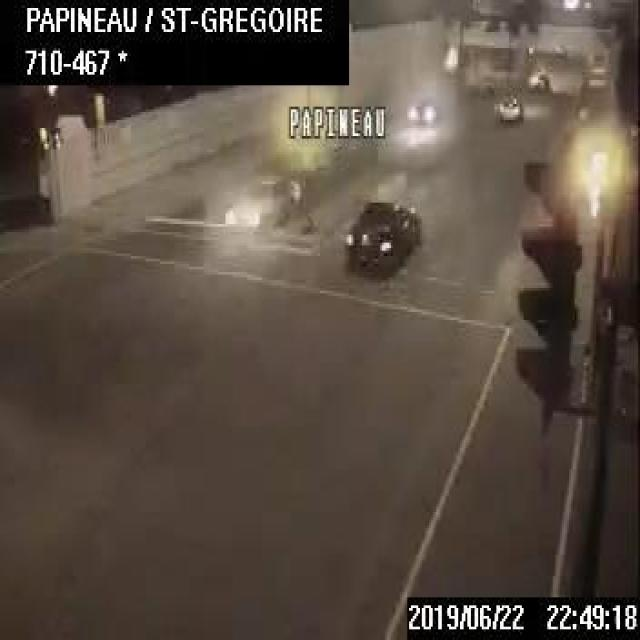vehicle: (344, 197, 420, 272), (220, 168, 302, 229), (403, 80, 452, 125), (491, 85, 524, 123), (524, 65, 553, 95)
